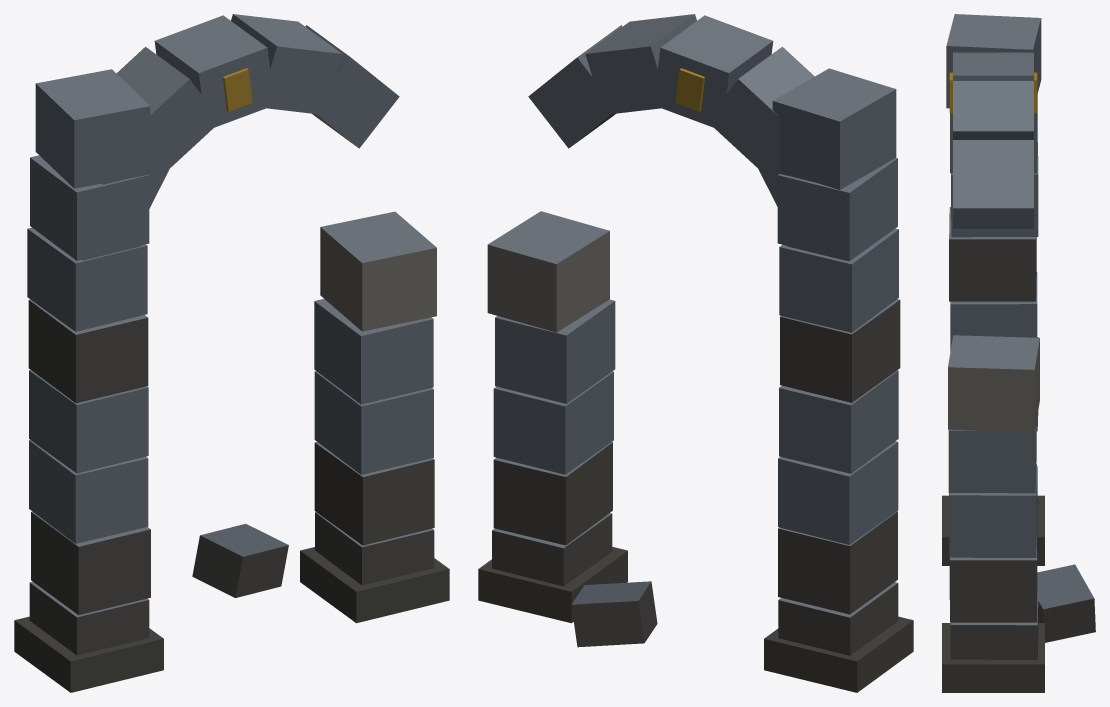
The model's file is gate-segment.glb.
3 renders of one model, left to right at view 1: azimuth 30°, elevation 25°; view 2: azimuth 150°, elevation 25°; view 3: azimuth 270°, elevation 25°, orthographic. The views are drawn at different scales.
Visible parts, largest first — view 1: GateSegment; view 2: GateSegment; view 3: GateSegment.
Boxes of the visible parts, x1=… form: GateSegment: x1=14, y1=14, x2=449, y2=692; GateSegment: x1=478, y1=14, x2=913, y2=692; GateSegment: x1=942, y1=14, x2=1095, y2=692.
Bounding box in the file's own units: 2.52 × 3.76 × 0.9723.
Materials: 1 (1 with a texture image).
